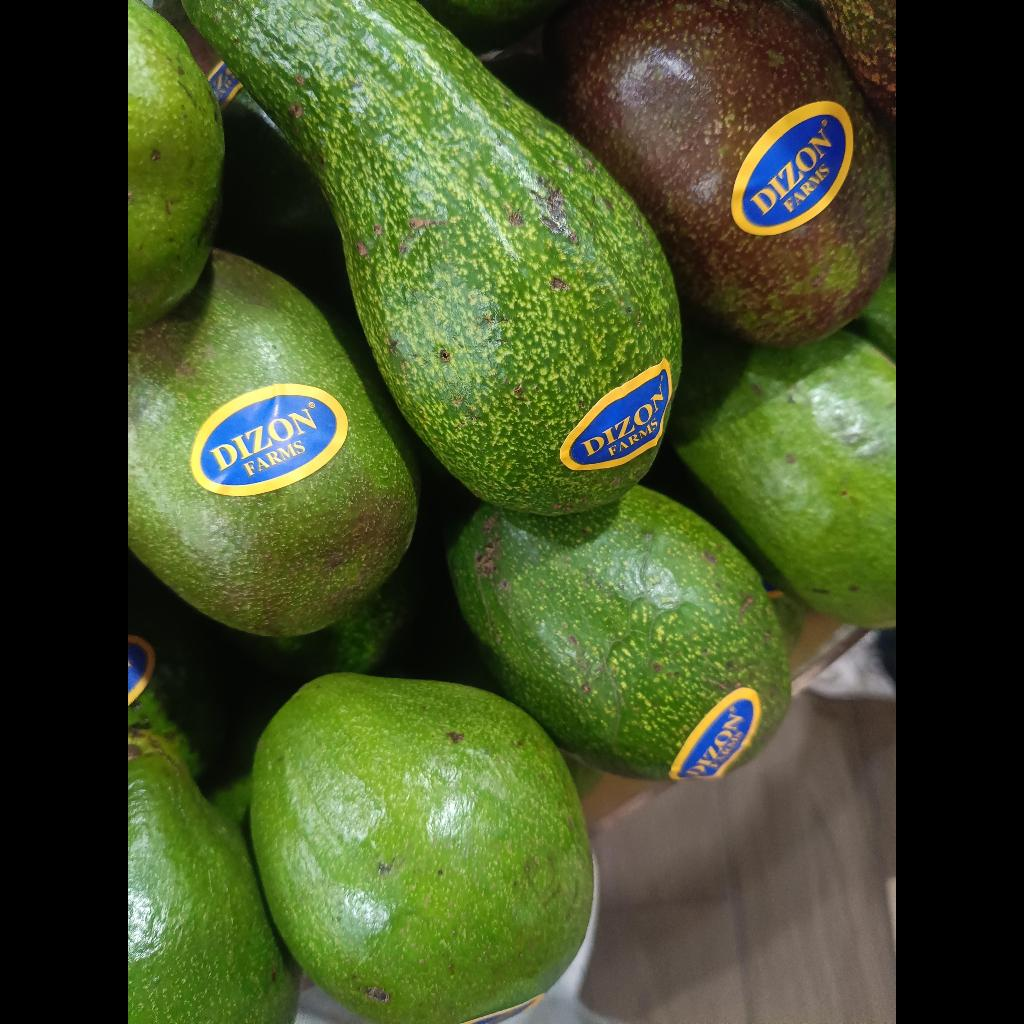healthy: (185, 0, 681, 516)
